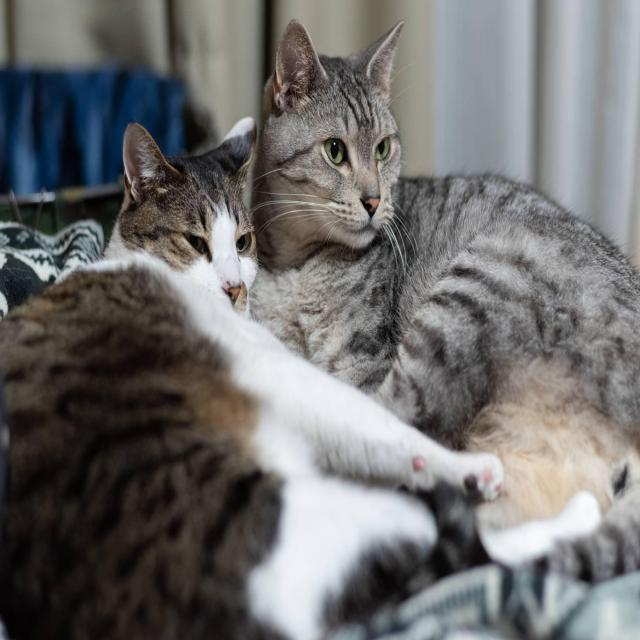Cat: (258, 15, 408, 258), (116, 115, 264, 323)
